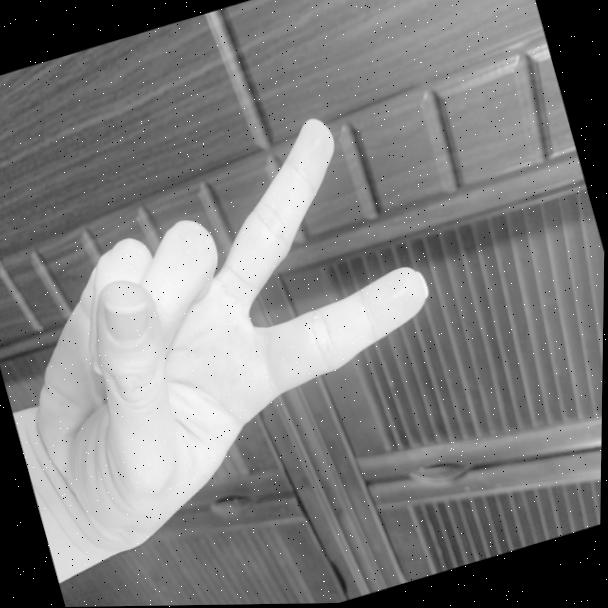two: (0, 89, 479, 563)
